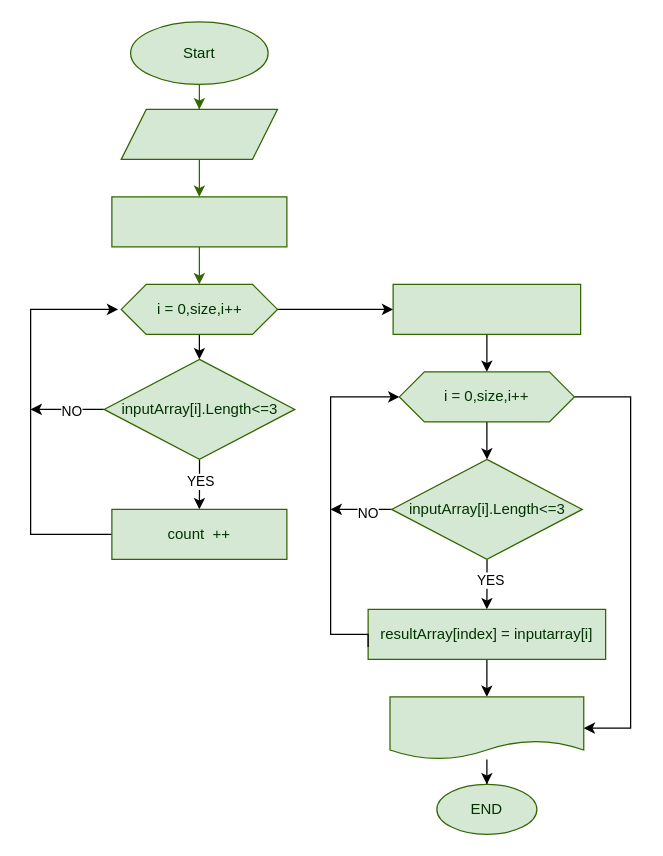
This 663x856 diagram has some shape labels left out. The shapes that lost their labels are listed below. From the top down, each one's centre as x and y in pixels, then its label:
At point (199, 133): "inputArray[]".
At point (199, 221): "count = 0 inputArray.Length=size".
At point (486, 308): "resultArray = count index = 0".
At point (486, 727): "inputArray->resultArray".
